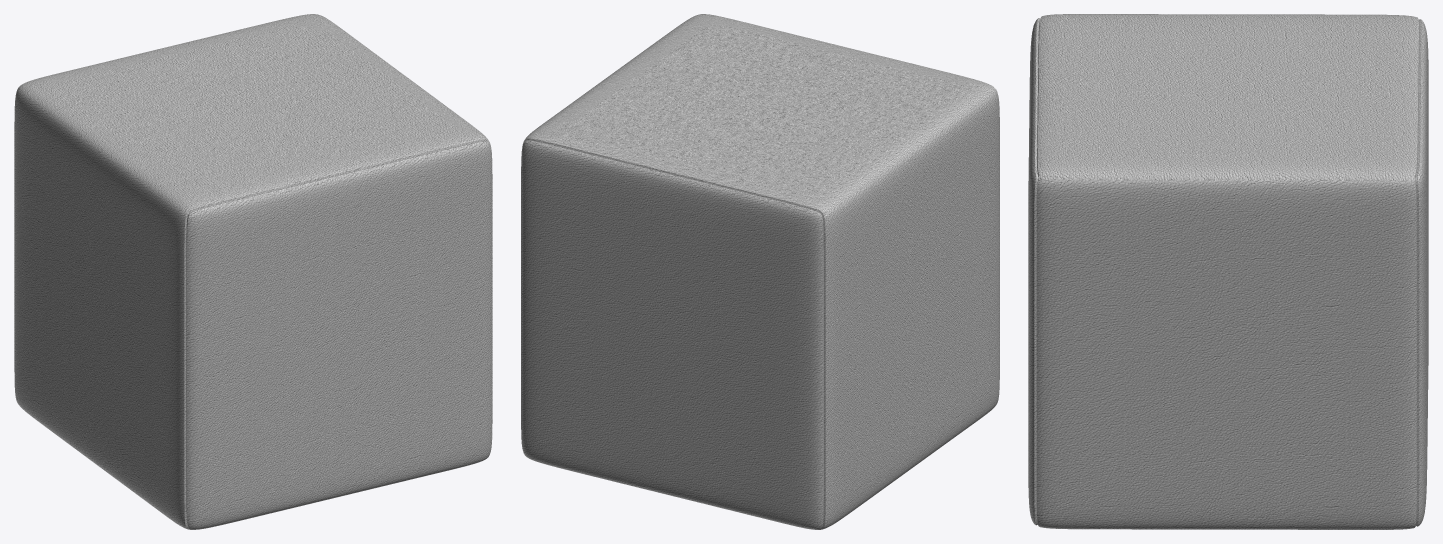
Rendered from puf.glb.
The picture shows the model from 3 angles, left to right: view 1: azimuth 30°, elevation 25°; view 2: azimuth 150°, elevation 25°; view 3: azimuth 270°, elevation 25°; orthographic projection. The views are drawn at different scales.
Visible parts, largest first — view 1: Osnovanie; view 2: Osnovanie; view 3: Osnovanie.
Part boxes in pixels (x1,y1,x2,y2): Osnovanie: (14,14,492,529); Osnovanie: (521,14,999,529); Osnovanie: (1028,14,1428,529).
Bounding box in the file's own units: 452 × 450 × 452.
1 material, 1 textured.
